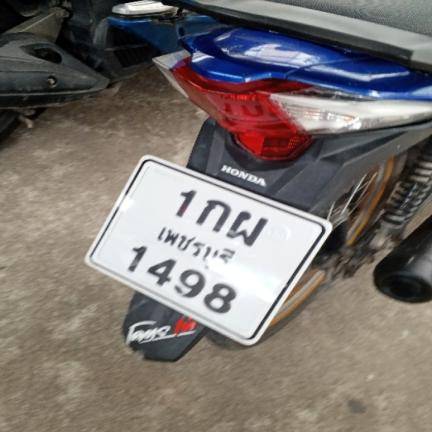1: (166, 186, 203, 220), (118, 241, 155, 275)
4: (137, 252, 188, 289)
8: (196, 281, 246, 319)
9: (167, 267, 215, 304)
A01: (188, 195, 238, 235)
A28: (221, 208, 272, 250)
PBI: (151, 222, 244, 279)
